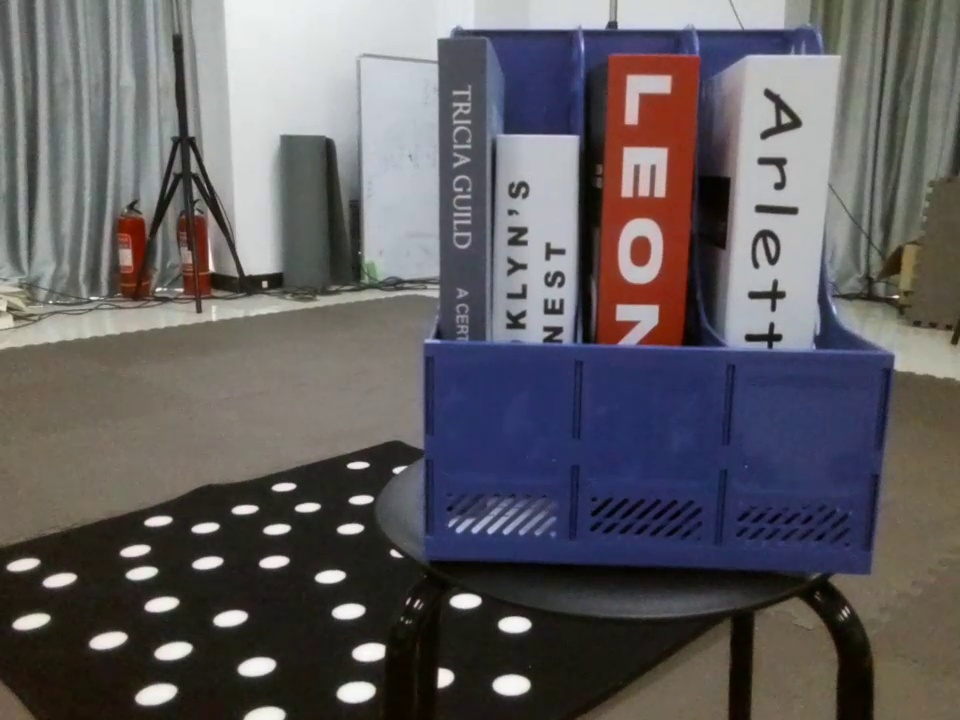files: (412, 13, 898, 585)
